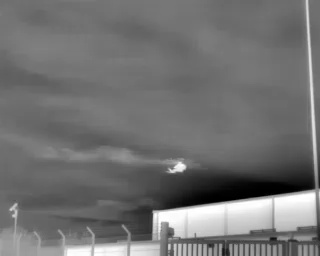HELICOPTER: (160, 152, 204, 179)
